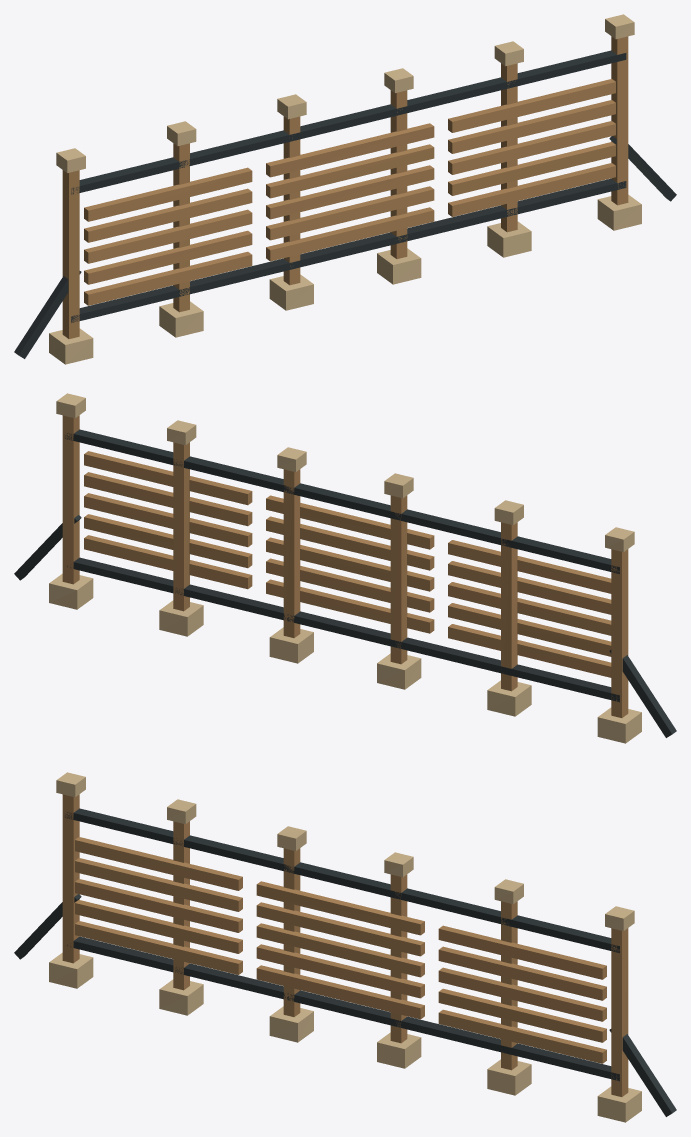
The model's file is snow-fence.source.glb.
The picture shows the model from 3 angles, top to bottom: view 1: azimuth 30°, elevation 25°; view 2: azimuth 150°, elevation 25°; view 3: azimuth 330°, elevation 25°; orthographic projection.
Parts seen in each view (by area): view 1: snow-fence-long-charcoal-rail-0.55-mesh, snow-fence-long-charcoal-rail-2.38-mesh, snow-fence-slim-timber-post--4.1-mesh, snow-fence-windbreak-slat--2.72-2.02-mesh, snow-fence-windbreak-slat--2.72-0.82-mesh, snow-fence-windbreak-slat--2.72-1.12-mesh, snow-fence-windbreak-slat--2.72-1.42-mesh, snow-fence-windbreak-slat--2.72-1.72-mesh, snow-fence-windbreak-slat-0-1.12-mesh, snow-fence-windbreak-slat-0-2.02-mesh, snow-fence-windbreak-slat-0-0.82-mesh, snow-fence-windbreak-slat-0-1.42-mesh (+25 smaller); view 2: snow-fence-long-charcoal-rail-2.38-mesh, snow-fence-long-charcoal-rail-0.55-mesh, snow-fence-slim-timber-post-4.1-mesh, snow-fence-slim-timber-post--4.1-mesh, snow-fence-slim-timber-post-0.8-mesh, snow-fence-slim-timber-post-2.45-mesh, snow-fence-slim-timber-post--0.8-mesh, snow-fence-slim-timber-post--2.45-mesh, snow-fence-windbreak-slat-2.72-0.82-mesh, snow-fence-windbreak-slat-2.72-1.12-mesh, snow-fence-windbreak-slat-2.72-1.42-mesh, snow-fence-windbreak-slat-2.72-1.72-mesh (+25 smaller); view 3: snow-fence-long-charcoal-rail-2.38-mesh, snow-fence-long-charcoal-rail-0.55-mesh, snow-fence-slim-timber-post-4.1-mesh, snow-fence-windbreak-slat-2.72-2.02-mesh, snow-fence-windbreak-slat-2.72-0.82-mesh, snow-fence-windbreak-slat-2.72-1.12-mesh, snow-fence-windbreak-slat-2.72-1.42-mesh, snow-fence-windbreak-slat-2.72-1.72-mesh, snow-fence-windbreak-slat-0-1.12-mesh, snow-fence-windbreak-slat-0-2.02-mesh, snow-fence-windbreak-slat-0-0.82-mesh, snow-fence-windbreak-slat-0-1.42-mesh (+25 smaller).
Part boxes in pixels (x1,y1,x2,y2): snow-fence-long-charcoal-rail-0.55-mesh: (71,178,626,322); snow-fence-long-charcoal-rail-2.38-mesh: (71,50,626,194); snow-fence-slim-timber-post--4.1-mesh: (62,170,79,338); snow-fence-windbreak-slat--2.72-2.02-mesh: (84,167,252,221); snow-fence-windbreak-slat--2.72-0.82-mesh: (84,251,252,305); snow-fence-windbreak-slat--2.72-1.12-mesh: (84,230,252,284); snow-fence-windbreak-slat--2.72-1.42-mesh: (84,209,252,263); snow-fence-windbreak-slat--2.72-1.72-mesh: (84,188,252,242); snow-fence-windbreak-slat-0-1.12-mesh: (266,186,434,240); snow-fence-windbreak-slat-0-2.02-mesh: (266,123,434,177); snow-fence-windbreak-slat-0-0.82-mesh: (266,207,434,261); snow-fence-windbreak-slat-0-1.42-mesh: (266,165,434,219); snow-fence-long-charcoal-rail-2.38-mesh: (65,429,619,573); snow-fence-long-charcoal-rail-0.55-mesh: (67,557,619,702); snow-fence-slim-timber-post-4.1-mesh: (62,415,79,584); snow-fence-slim-timber-post--4.1-mesh: (611,549,628,717); snow-fence-slim-timber-post-0.8-mesh: (283,469,300,637); snow-fence-slim-timber-post-2.45-mesh: (173,442,189,611); snow-fence-slim-timber-post--0.8-mesh: (390,495,407,664); snow-fence-slim-timber-post--2.45-mesh: (501,522,517,691); snow-fence-windbreak-slat-2.72-0.82-mesh: (84,535,252,589); snow-fence-windbreak-slat-2.72-1.12-mesh: (84,514,252,568); snow-fence-windbreak-slat-2.72-1.42-mesh: (84,493,252,547); snow-fence-windbreak-slat-2.72-1.72-mesh: (84,472,252,526); snow-fence-long-charcoal-rail-2.38-mesh: (65,808,619,952); snow-fence-long-charcoal-rail-0.55-mesh: (67,936,619,1081); snow-fence-slim-timber-post-4.1-mesh: (611,928,628,1096); snow-fence-windbreak-slat-2.72-2.02-mesh: (438,925,606,979); snow-fence-windbreak-slat-2.72-0.82-mesh: (438,1009,606,1063); snow-fence-windbreak-slat-2.72-1.12-mesh: (438,988,606,1042); snow-fence-windbreak-slat-2.72-1.42-mesh: (438,967,606,1021); snow-fence-windbreak-slat-2.72-1.72-mesh: (438,946,606,1000); snow-fence-windbreak-slat-0-1.12-mesh: (256,944,424,998); snow-fence-windbreak-slat-0-2.02-mesh: (256,881,424,935); snow-fence-windbreak-slat-0-0.82-mesh: (256,965,424,1019); snow-fence-windbreak-slat-0-1.42-mesh: (256,923,424,977).
Size of the model in its own units: 9.84 by 2.87 by 0.42.
